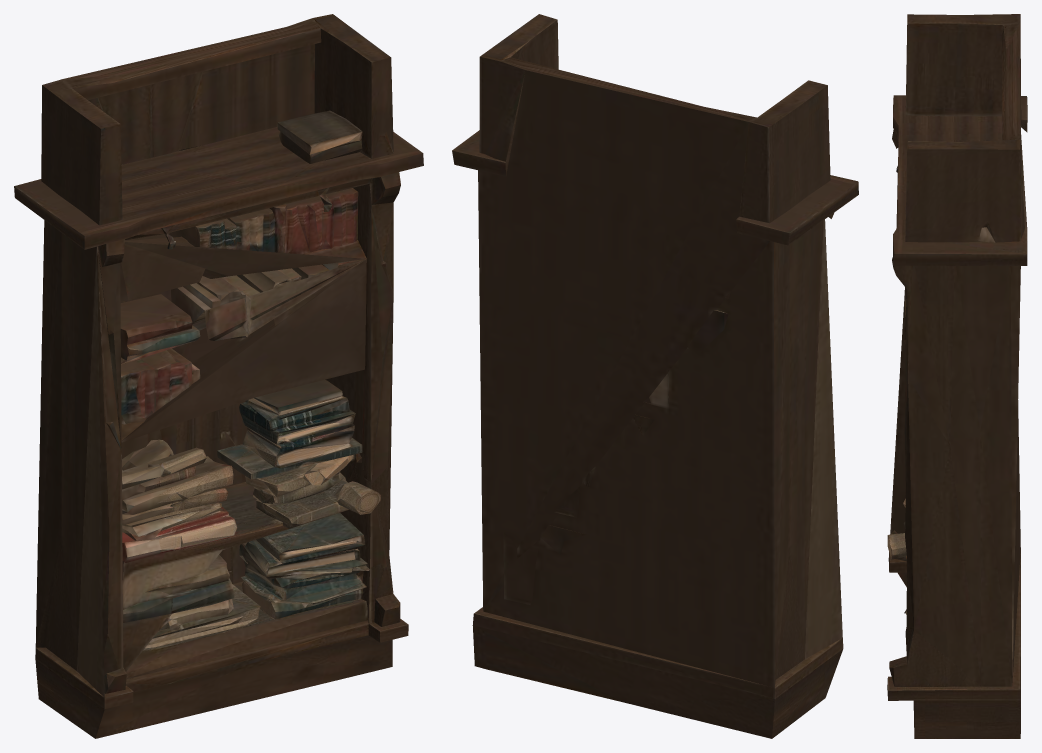
The model's file is bookshelf.glb.
The picture shows the model from 3 angles, left to right: view 1: azimuth 30°, elevation 25°; view 2: azimuth 150°, elevation 25°; view 3: azimuth 270°, elevation 25°; orthographic projection. The views are drawn at different scales.
Parts seen in each view (by area): view 1: bookshelf; view 2: bookshelf; view 3: bookshelf.
Part boxes in pixels (x1,y1,x2,y2): bookshelf: [14, 14, 423, 738]; bookshelf: [452, 14, 858, 738]; bookshelf: [887, 14, 1027, 738].
Size of the model in its own units: 1.07 by 1.85 by 0.4.
Materials: 1 (1 with a texture image).
